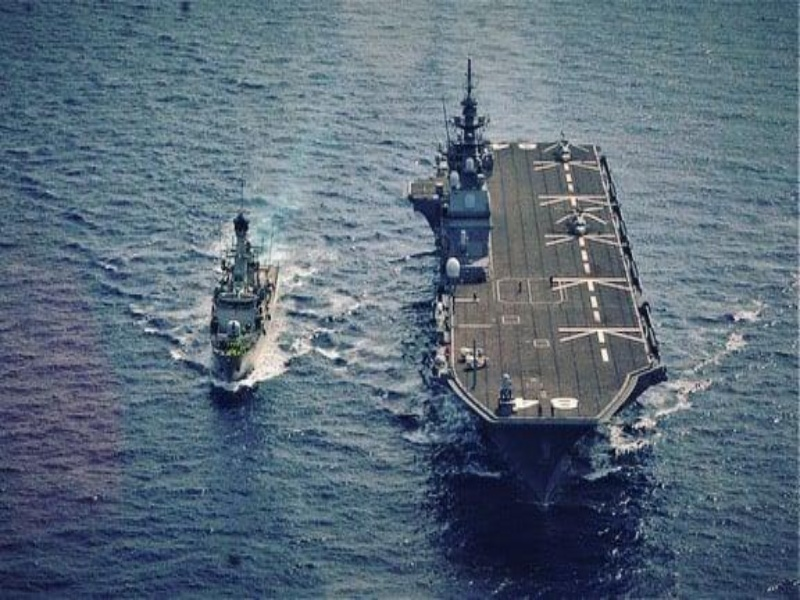carrier: (424, 59, 664, 454)
cruise: (205, 213, 278, 393)
